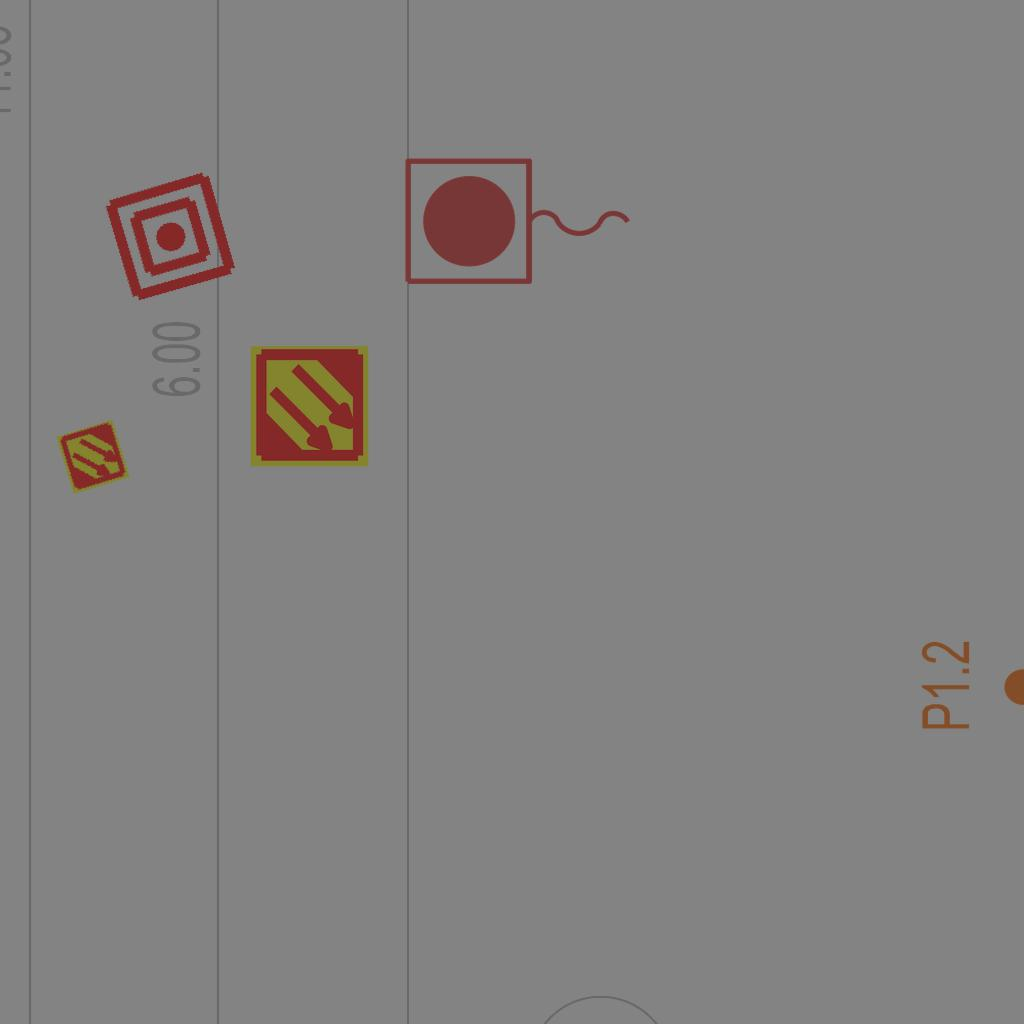ASR_Ansaugrauchmelder: (247, 344, 372, 469), (54, 418, 132, 496)
Downlight_LED_Einbauleuchten_Flur: (918, 639, 1024, 732)
NAM-Nichtautomatischer_Melder: (100, 166, 241, 307)
Zugtaster: (397, 151, 641, 295)
